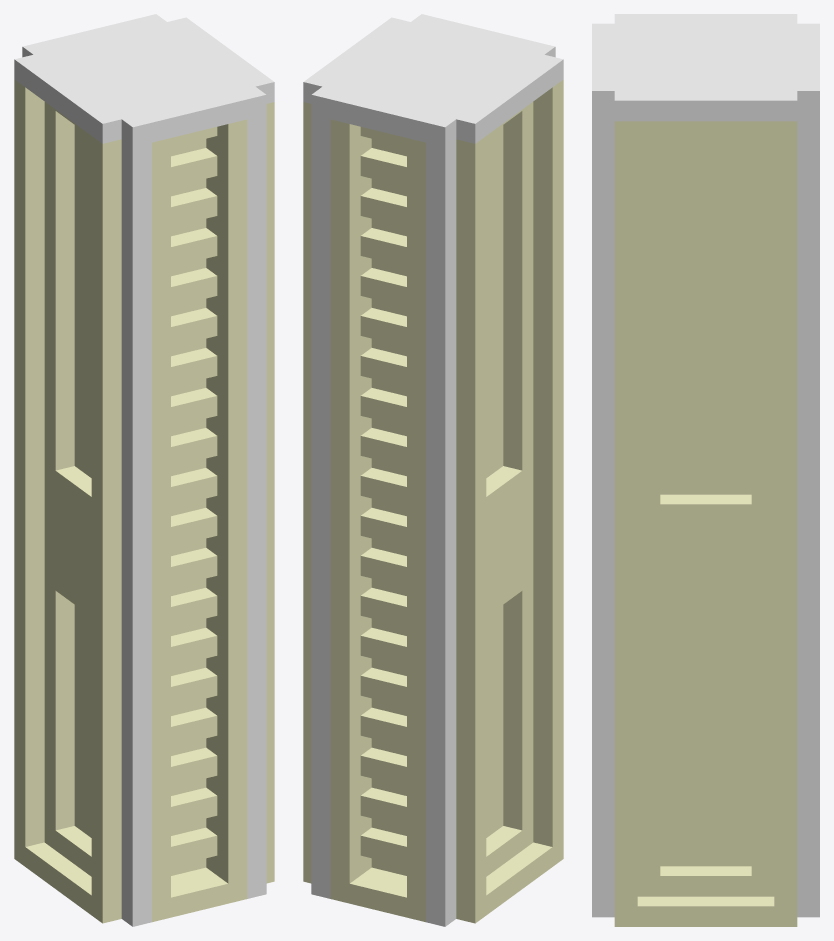
File: Med Bay Corner Pillar 2.obj
3 views of the same model, side by side, from view 1: azimuth 30°, elevation 25°; view 2: azimuth 150°, elevation 25°; view 3: azimuth 270°, elevation 25° (orthographic). The views are drawn at different scales.
Size of the model in its own units: 9 by 40 by 10.
1 material, 1 textured.
